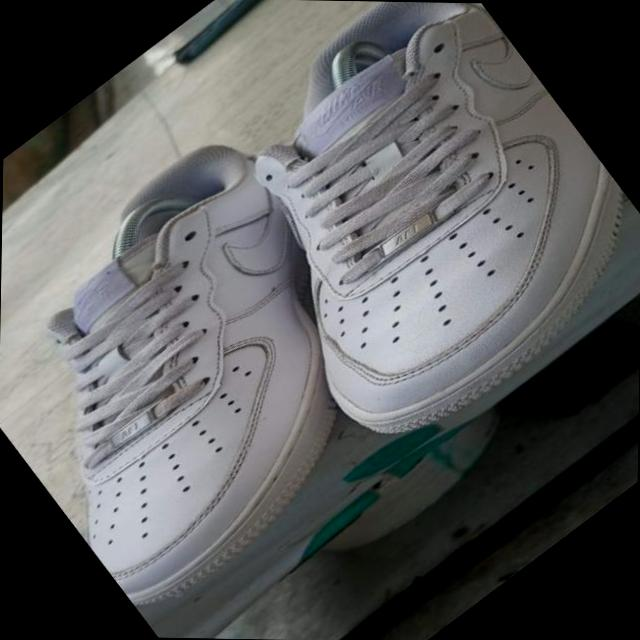nike_original_airforce: (148, 0, 640, 479), (0, 113, 450, 629)
